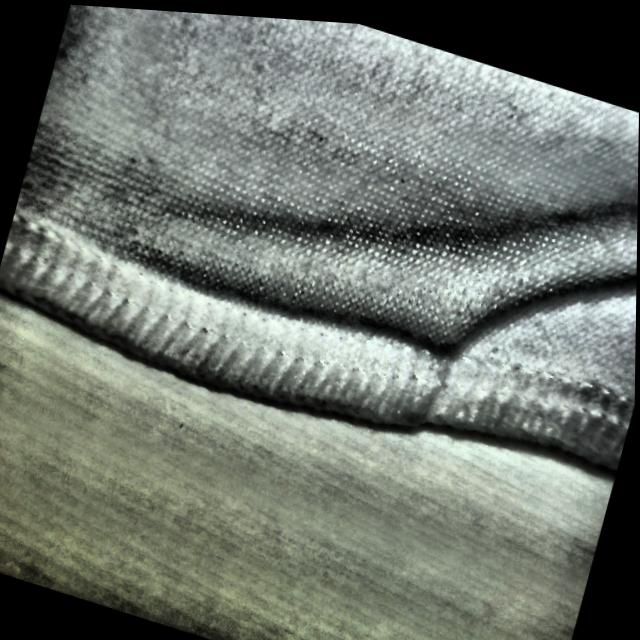seam: (271, 160, 576, 468)
